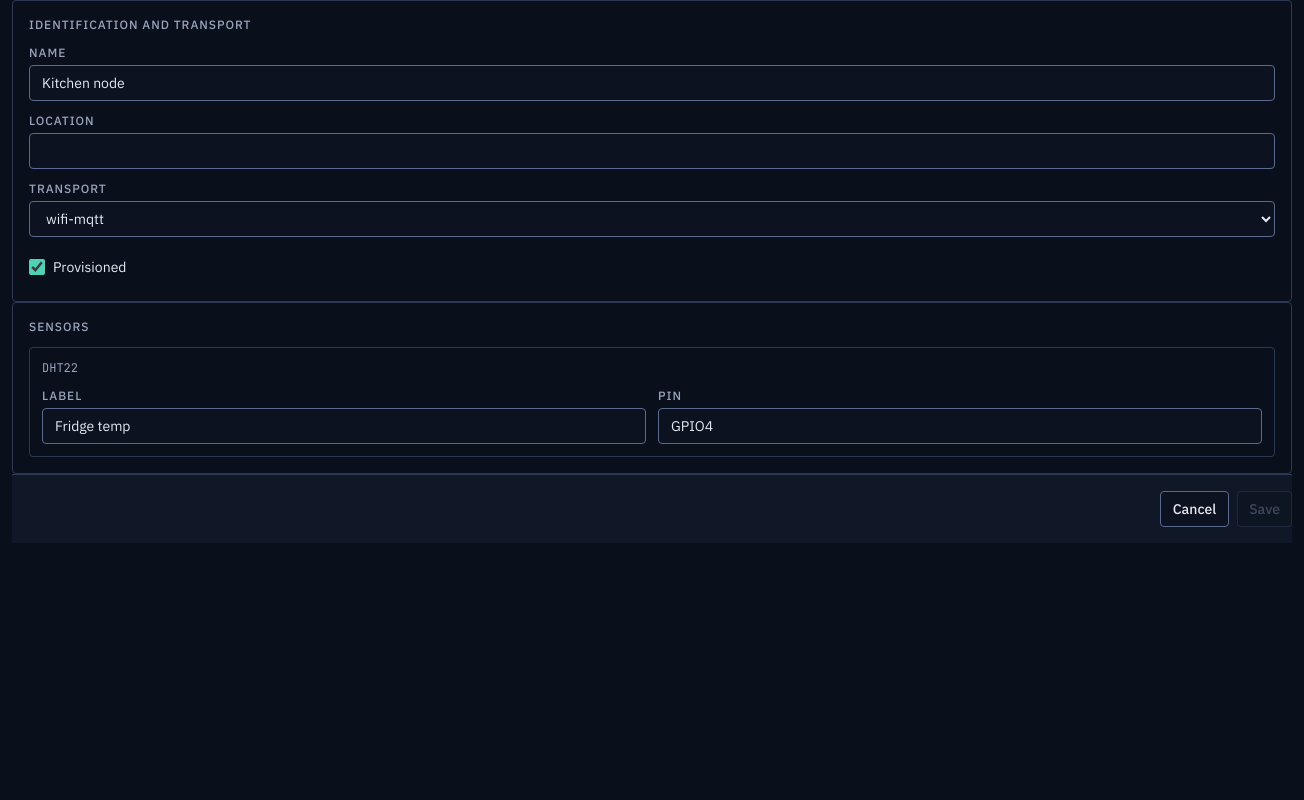
Test: DeviceConfigContainer › dismisses the error and resets both mutations when Dismiss is clicked (REQ-CFG-4)
The image size is (1304, 800).
Replace the text in the field labelled "Name" with "Renamed node": (652, 83) [29,65,1275,101]
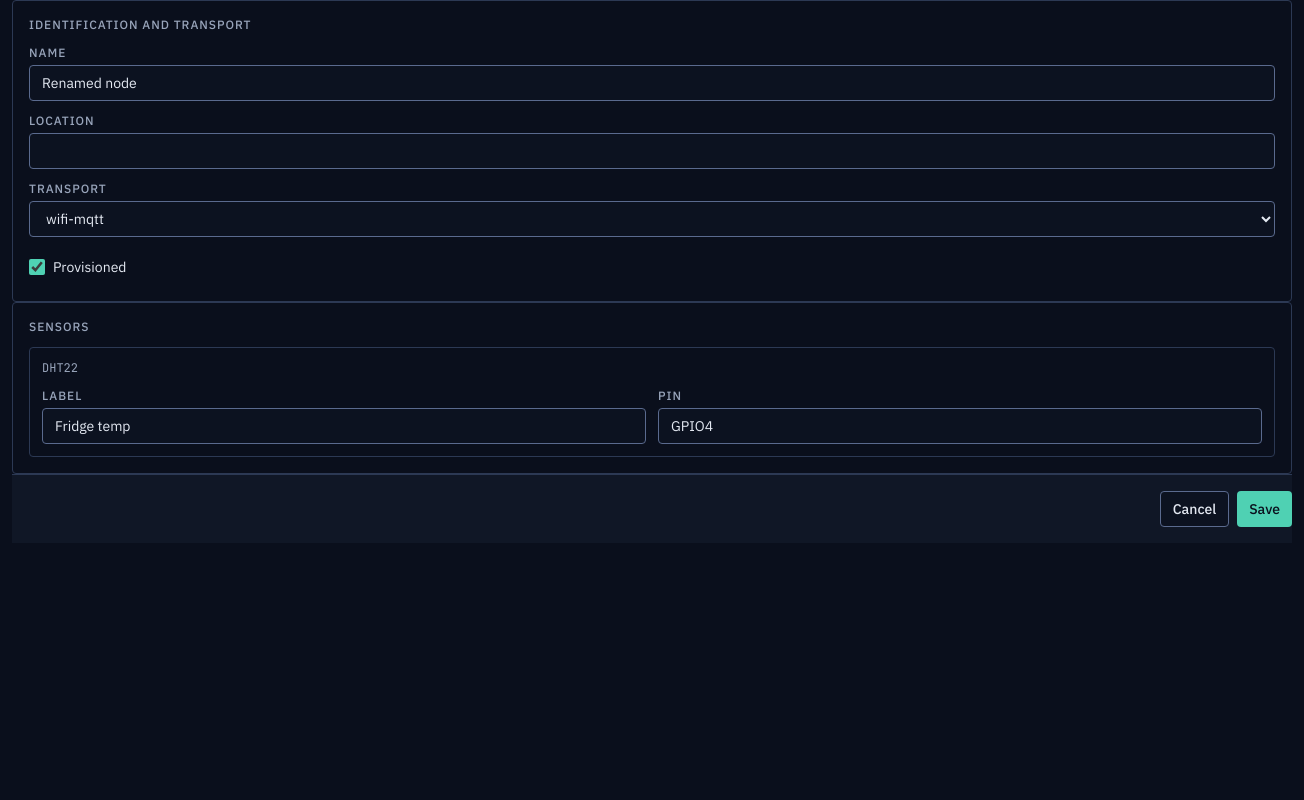
Click the button "Save": (1265, 509) [1237,491,1292,527]
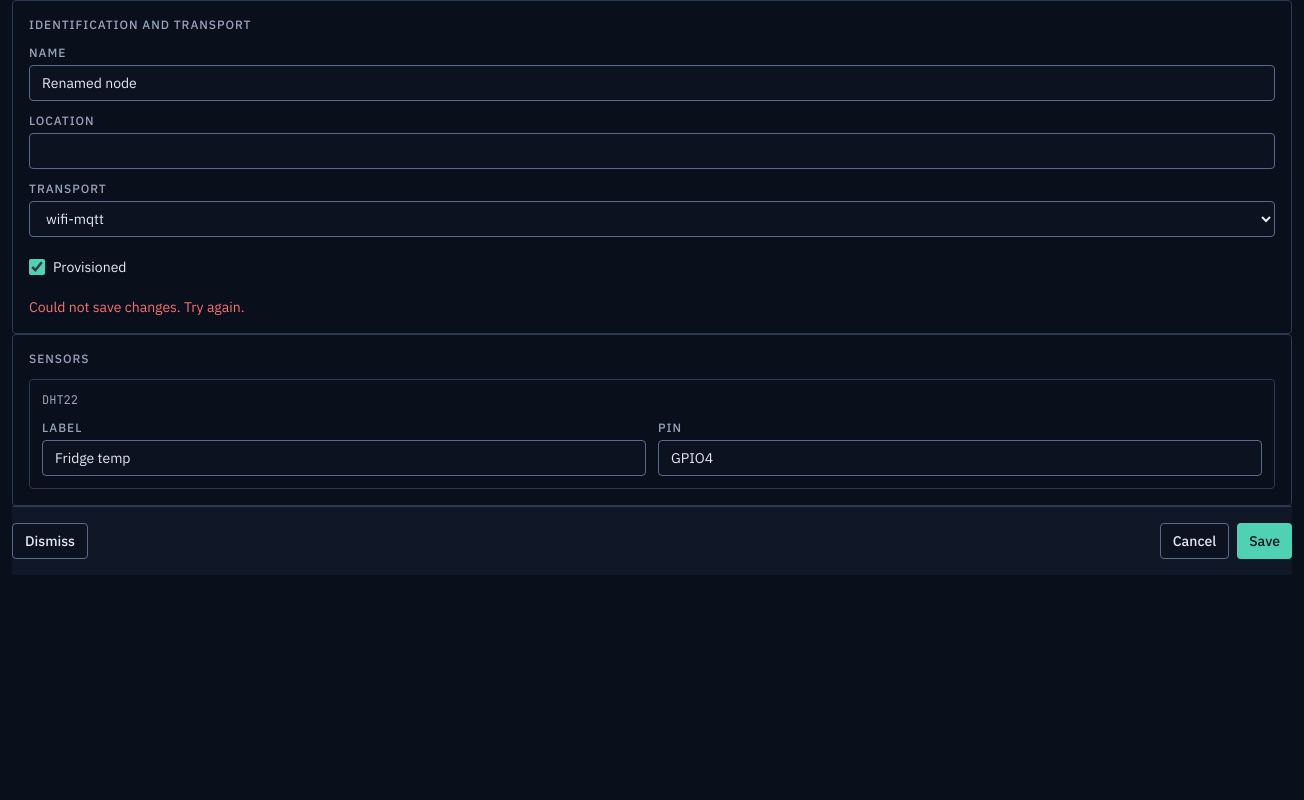
Now the message "Could not save changes. Try again." is shown, box [29,298,244,316]
Click the button "Dismiss": (50, 541) [12,523,88,559]
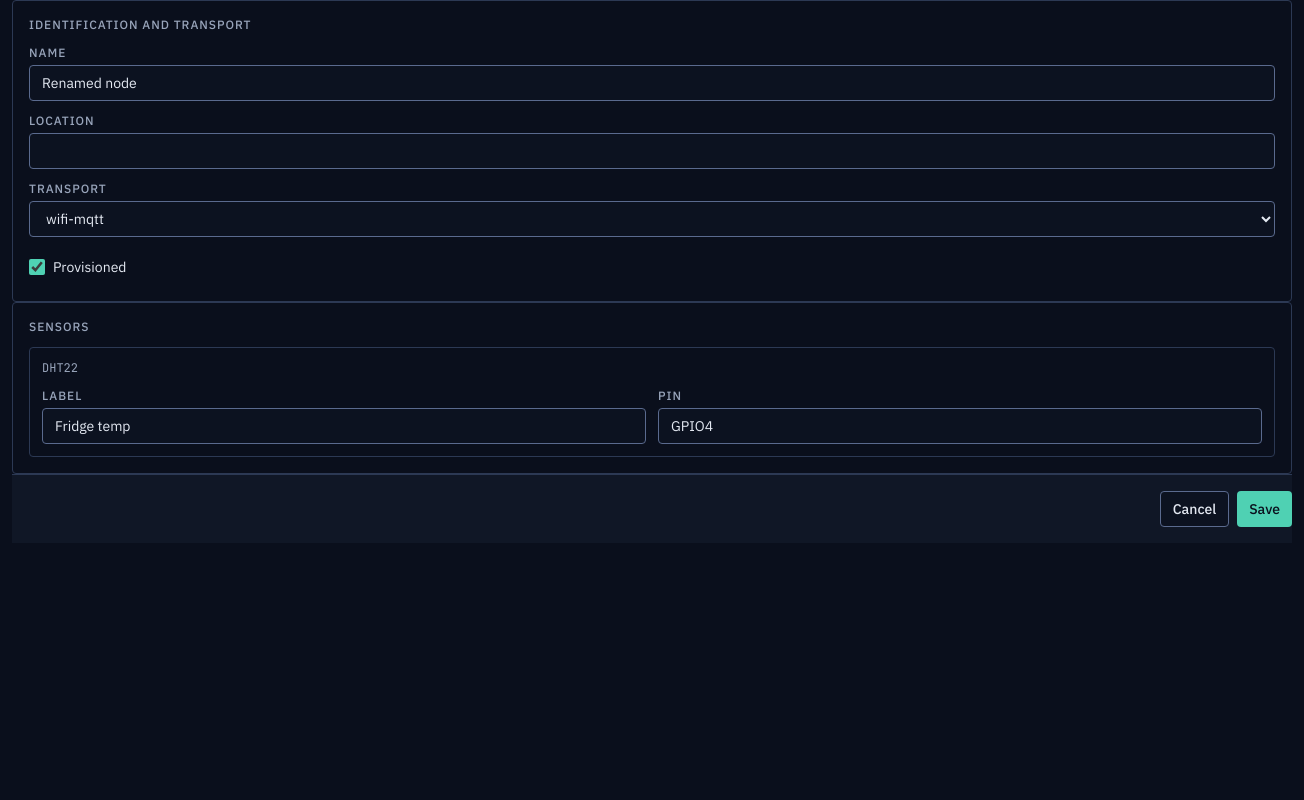
Now the message "Could not save changes. Try again." is gone
